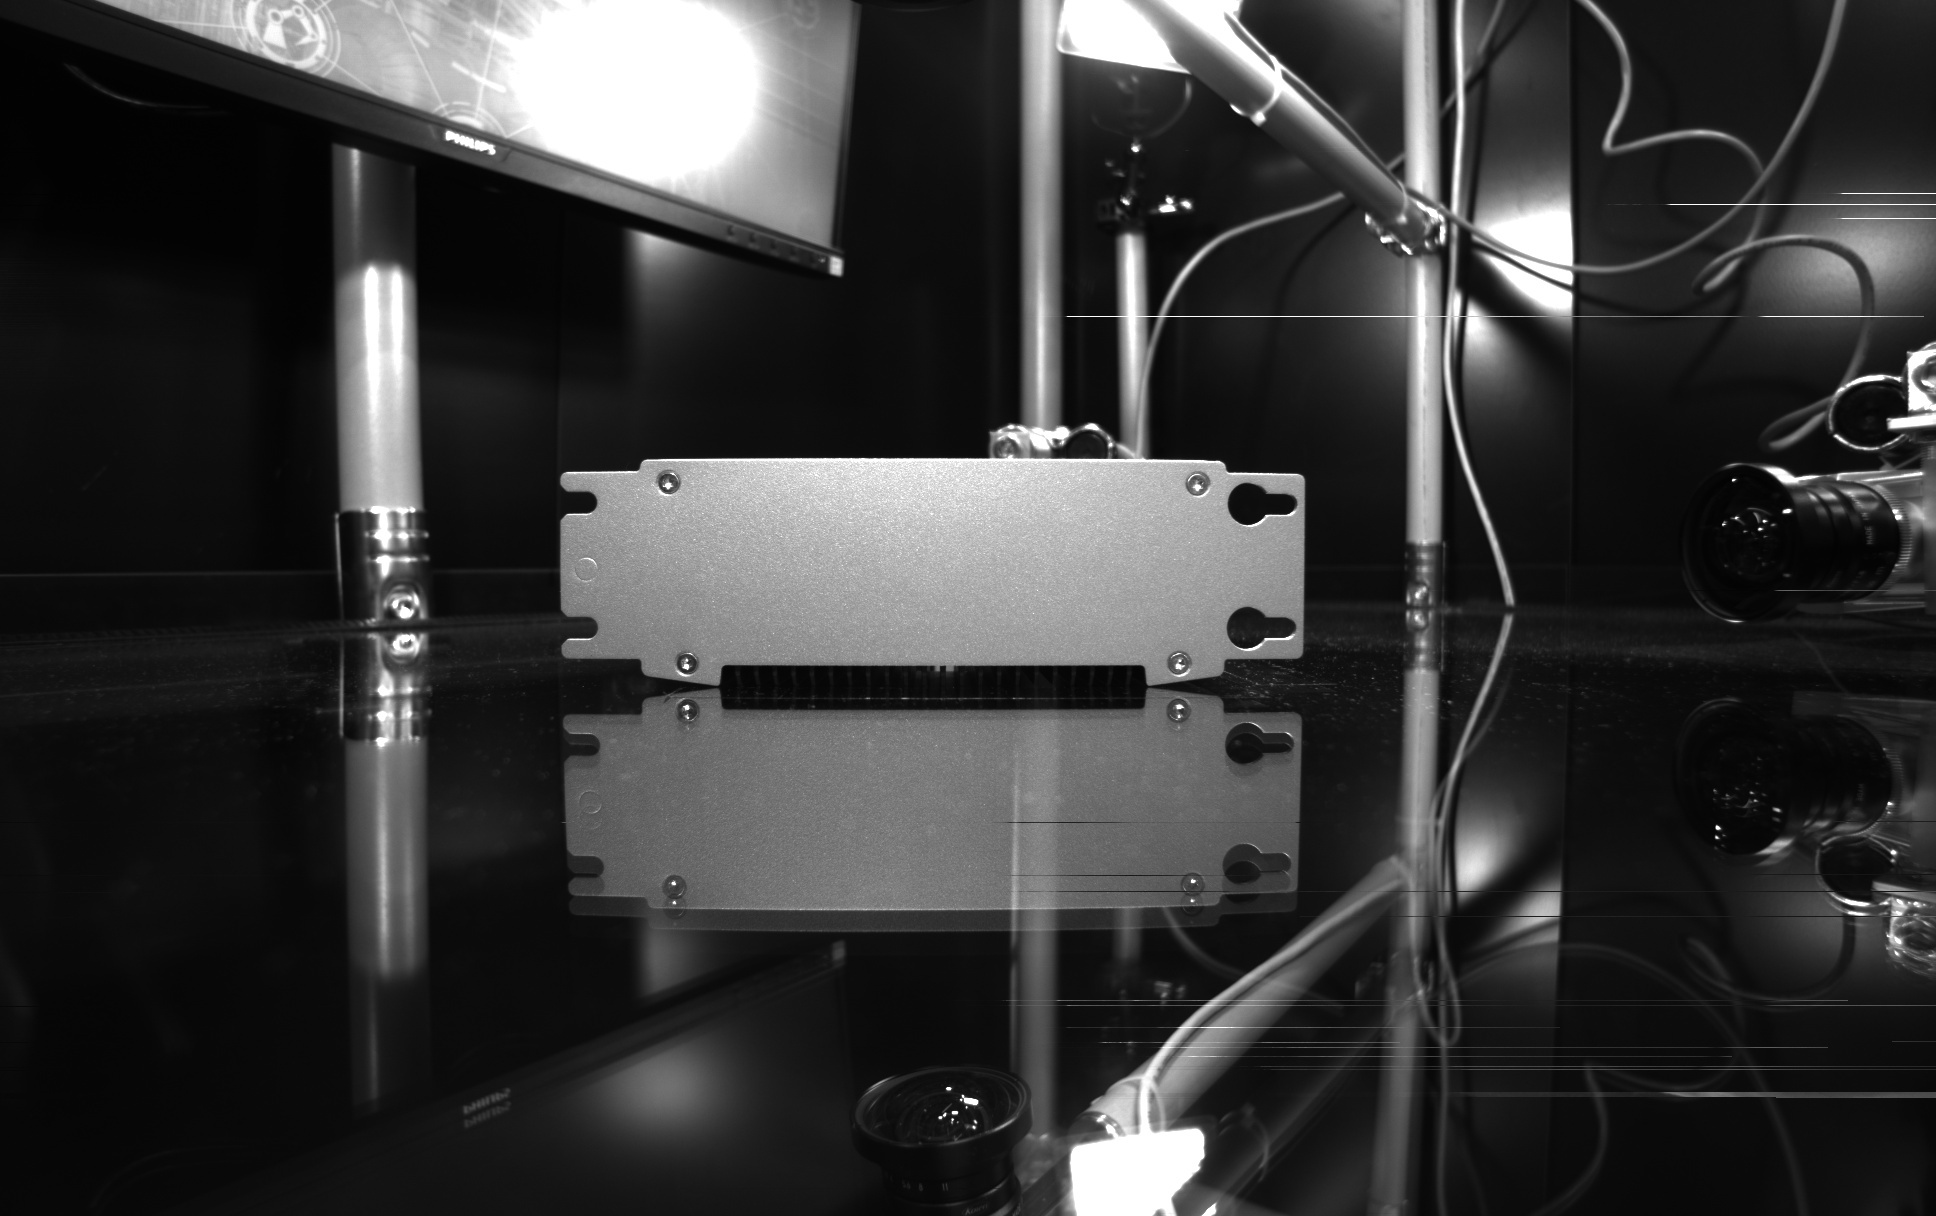CamBack: (531, 434, 1341, 684)
Schraube: (1180, 462, 1220, 504), (665, 642, 707, 682), (649, 462, 686, 502), (1160, 642, 1198, 679)
Schraube_gespiegelt: (654, 869, 696, 925), (1157, 693, 1199, 747), (1173, 869, 1210, 925), (665, 693, 705, 747)
